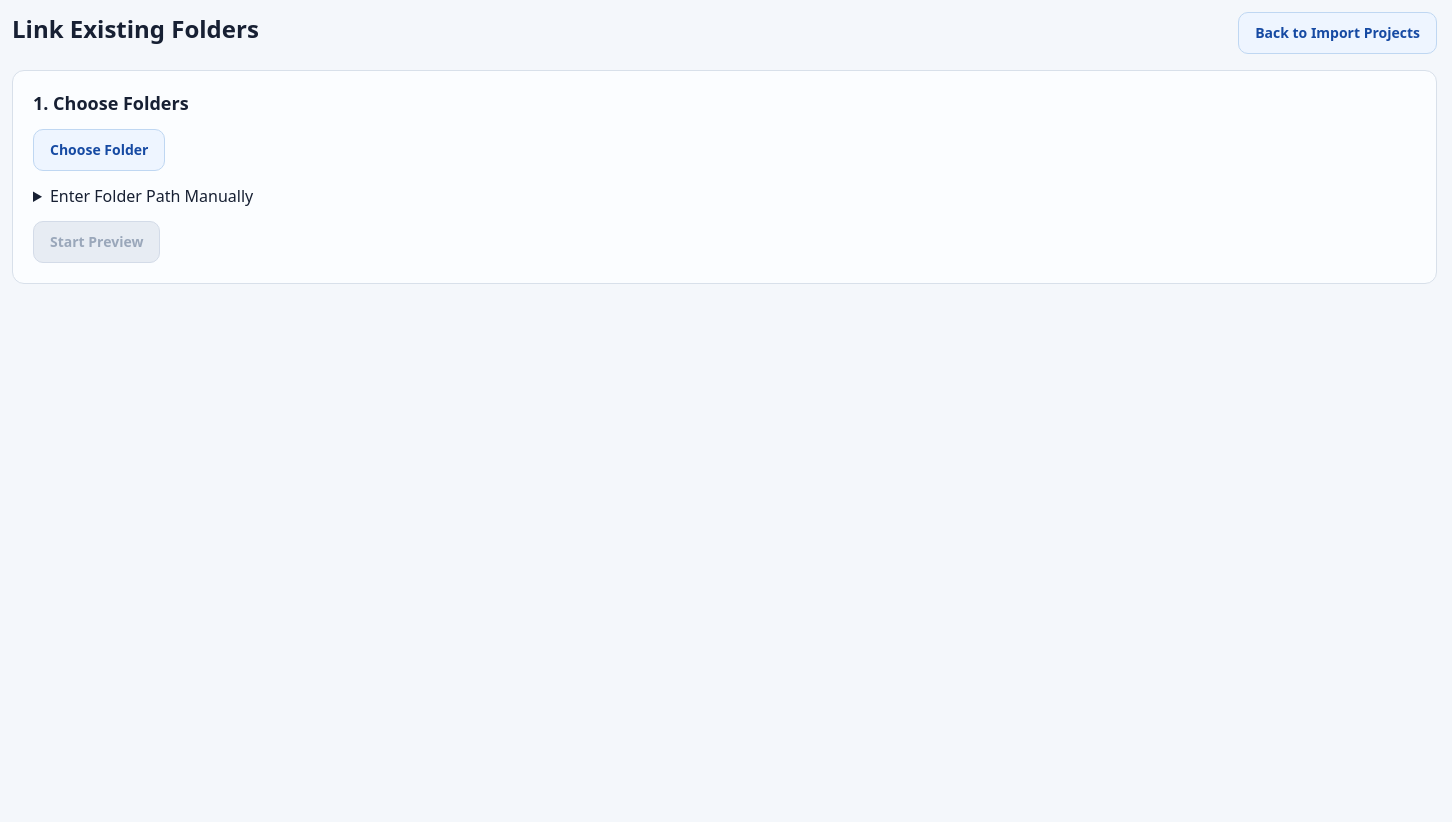
LegacyProjectPreview › keeps registered folders unselectable and requires Keep Separate for conflicting folders
The image size is (1452, 822).
Click the button "Choose Folder" at (99, 150), box [33,129,165,171]
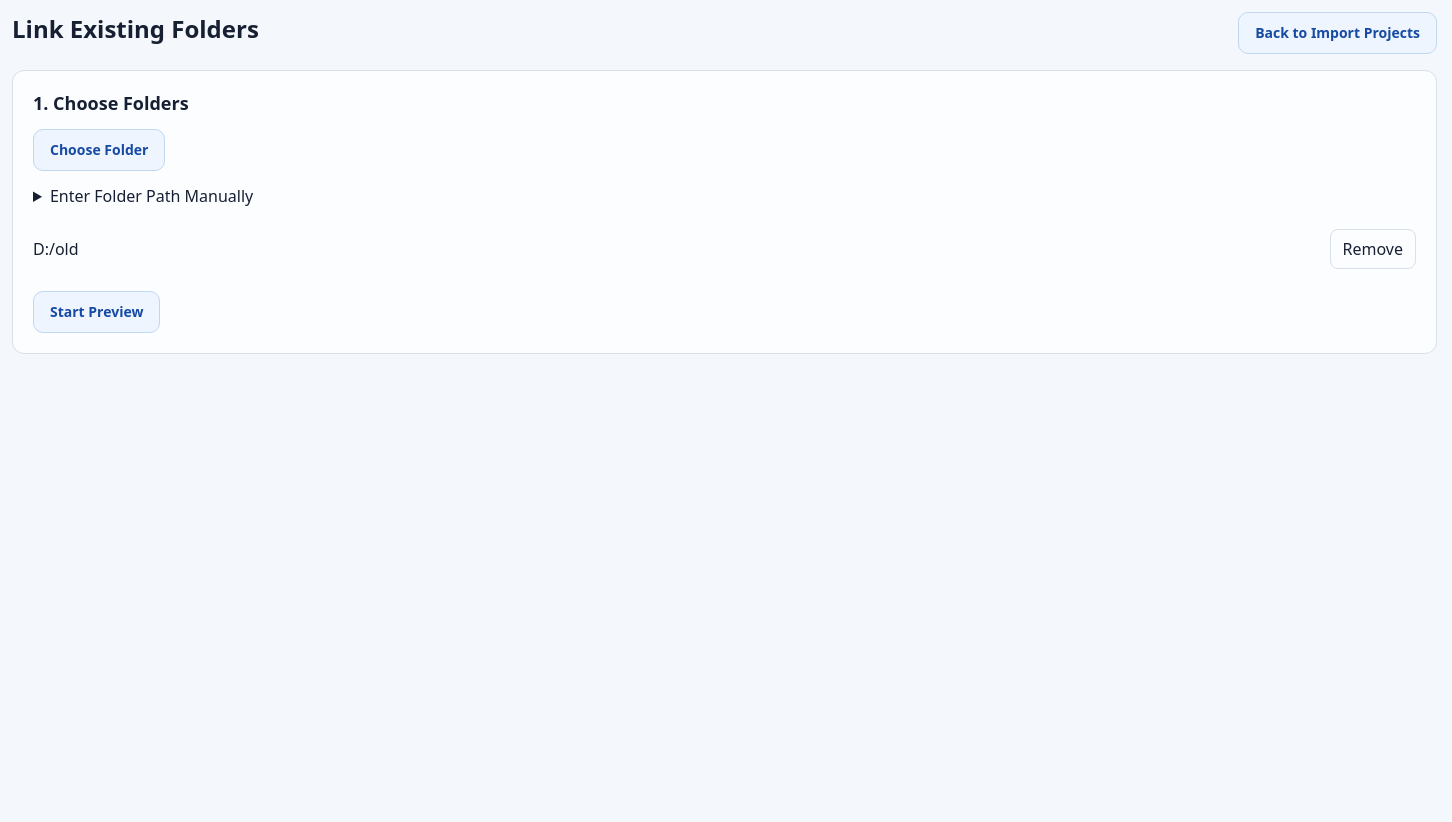
Click the button "Start Preview" at (97, 312), box [33,291,160,333]
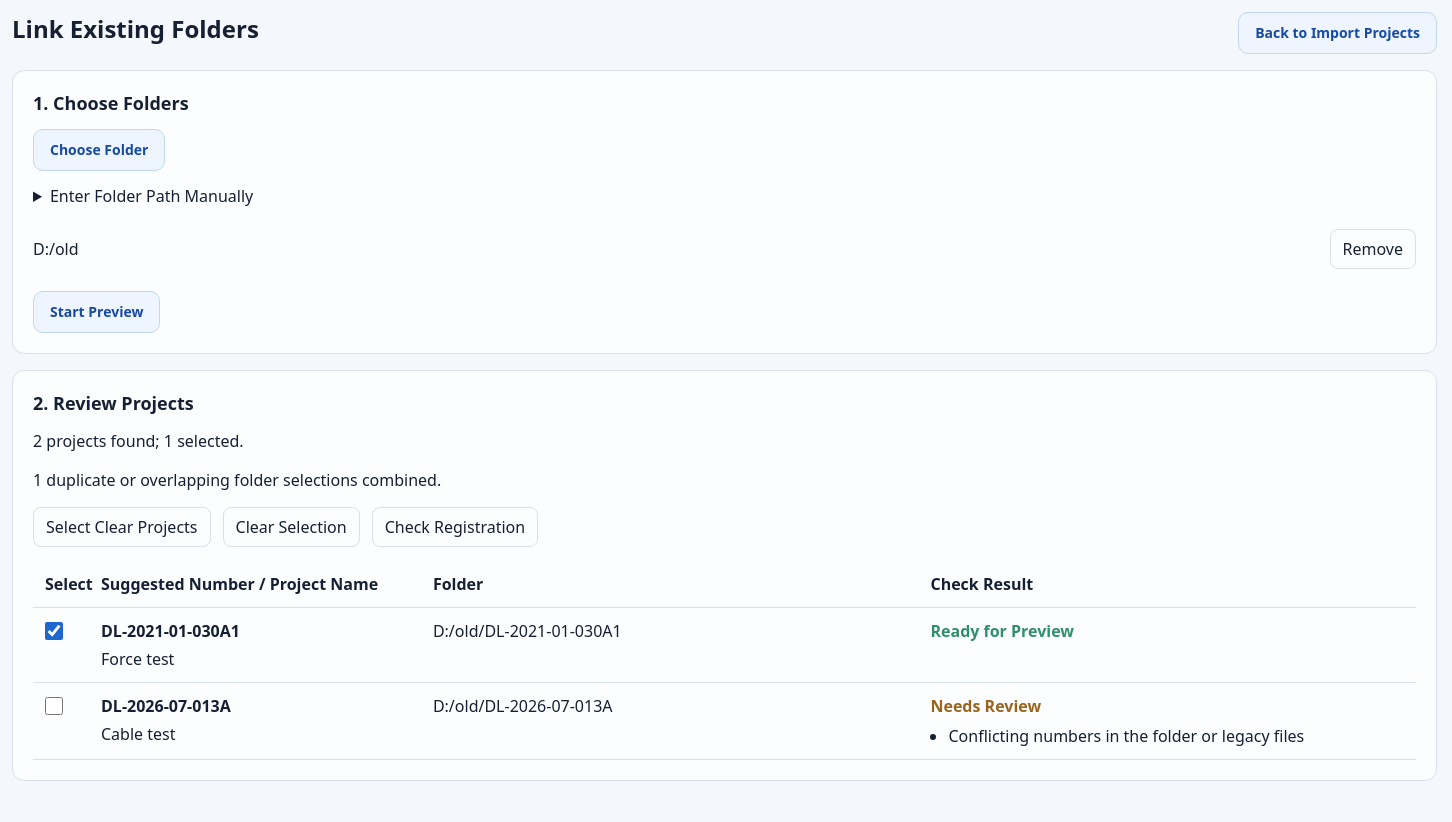
Click the button "Check Registration" at (455, 527), box [372,507,538,547]
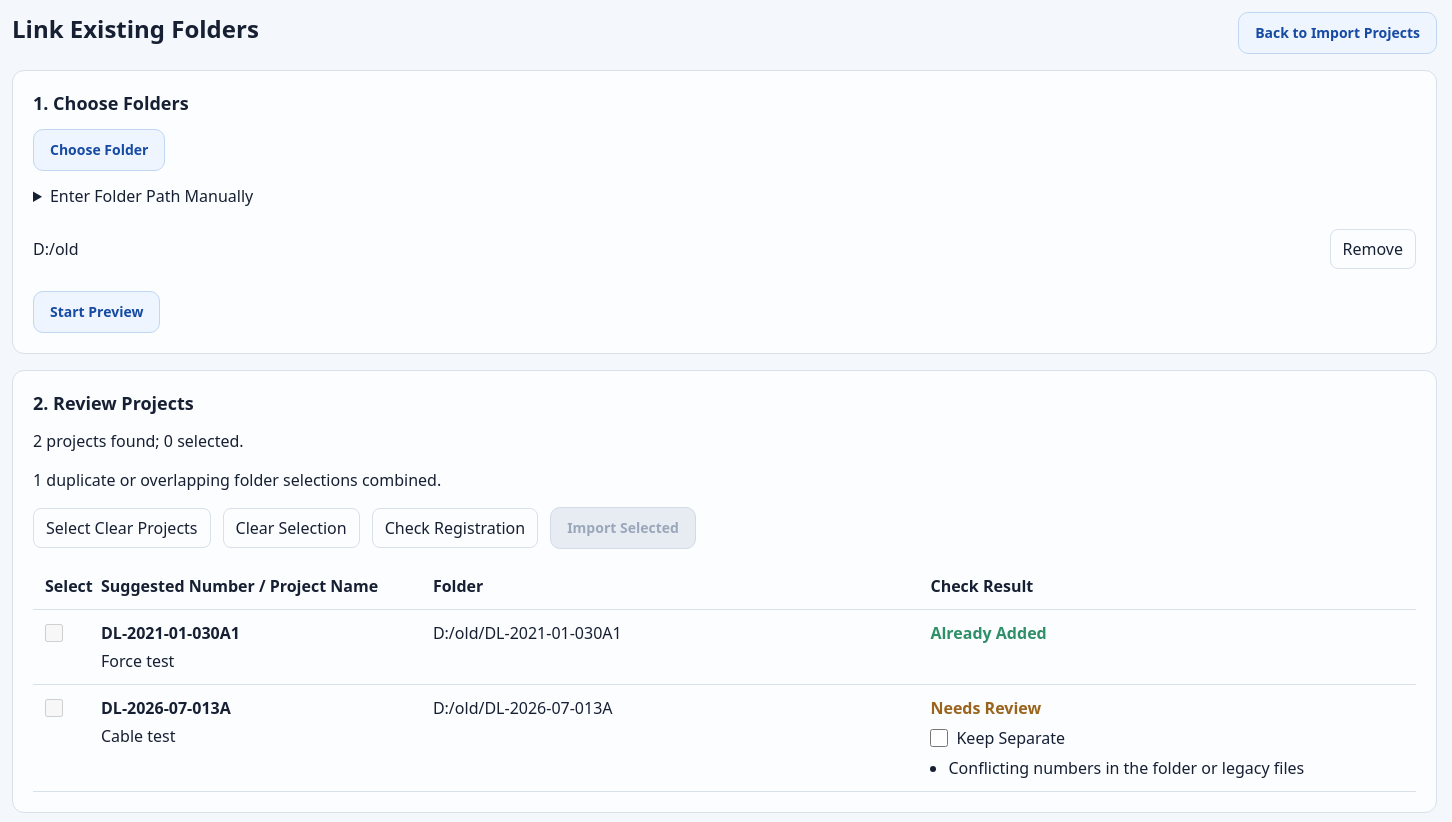
Now the text "Already Added" is shown, box [930,622,1047,644]
Now the checkbox named "Select Force test" is disabled, box [45,624,63,642]
Now the checkbox named "Select Cable test" is disabled, box [45,699,63,717]
Click the checkbox labelled "Keep Separate" at (940, 738), box [930,729,948,747]
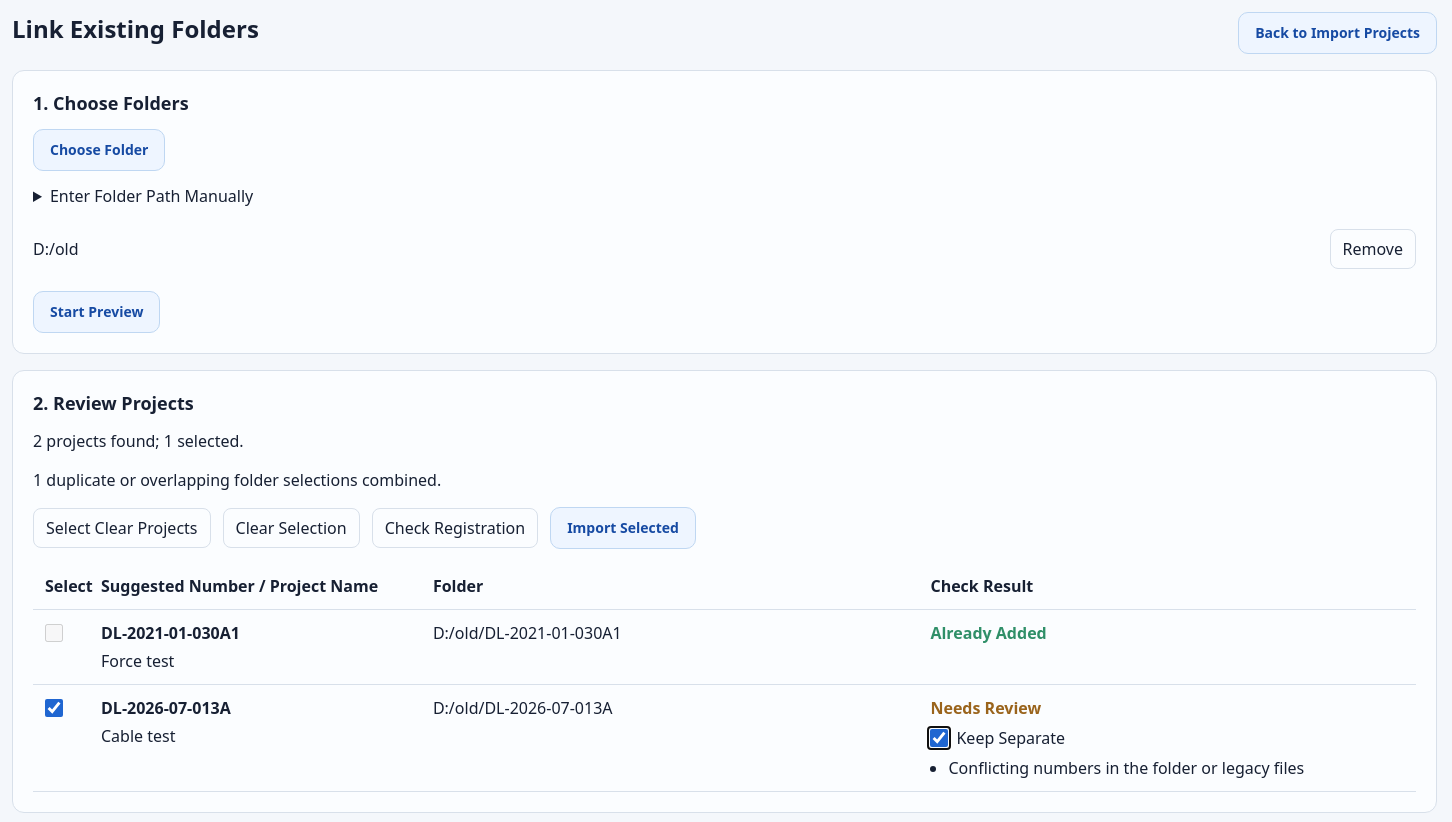
Now the checkbox named "Select Cable test" is checked, box [45,699,63,717]
Now the button "Import Selected" is enabled, box [550,507,696,549]
Click the checkbox labelled "Keep Separate" at (940, 738), box [930,729,948,747]
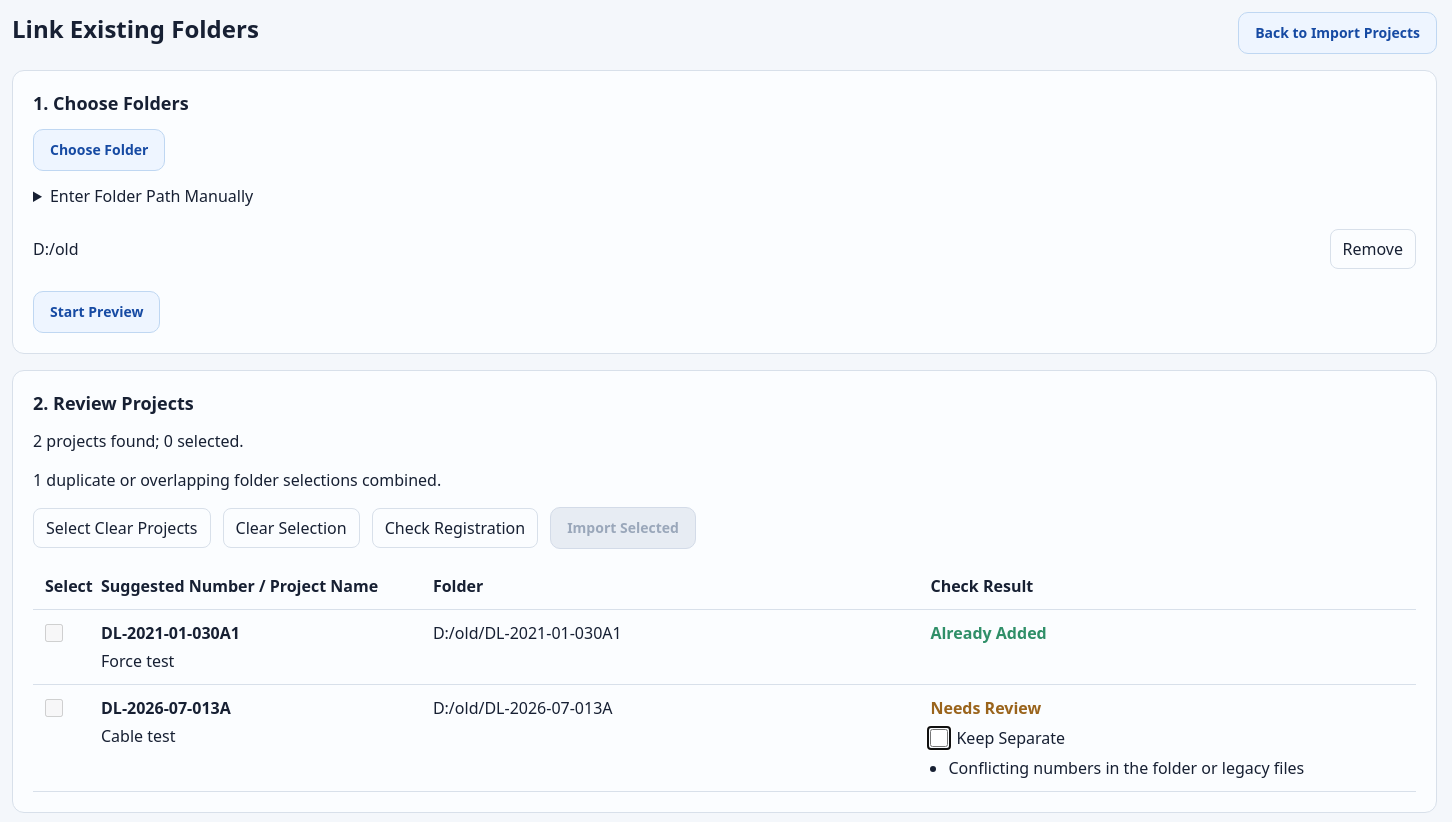
Now the checkbox named "Select Cable test" is not checked, box [45,699,63,717]
